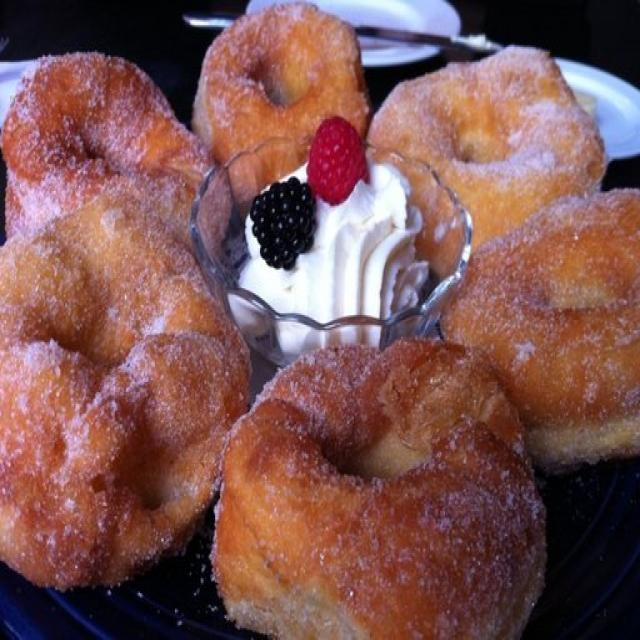Donuts: (3, 39, 227, 607), (387, 40, 640, 472), (214, 333, 538, 639), (184, 4, 363, 165)
